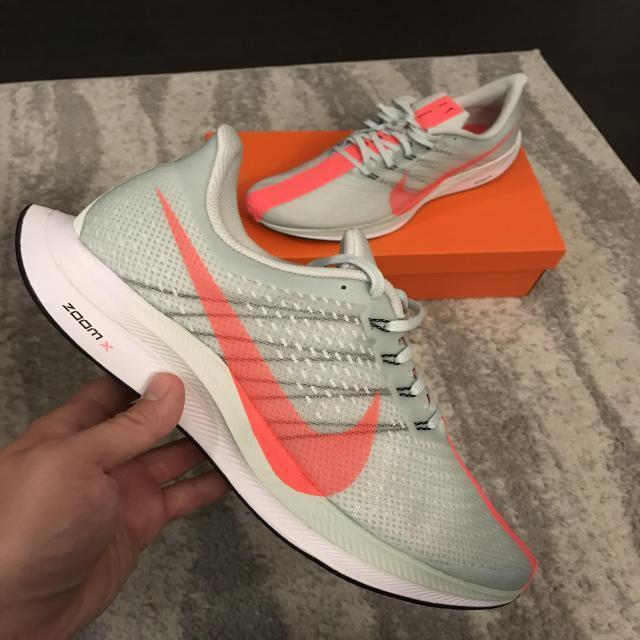shoes: (31, 175, 528, 621), (257, 81, 569, 237)
